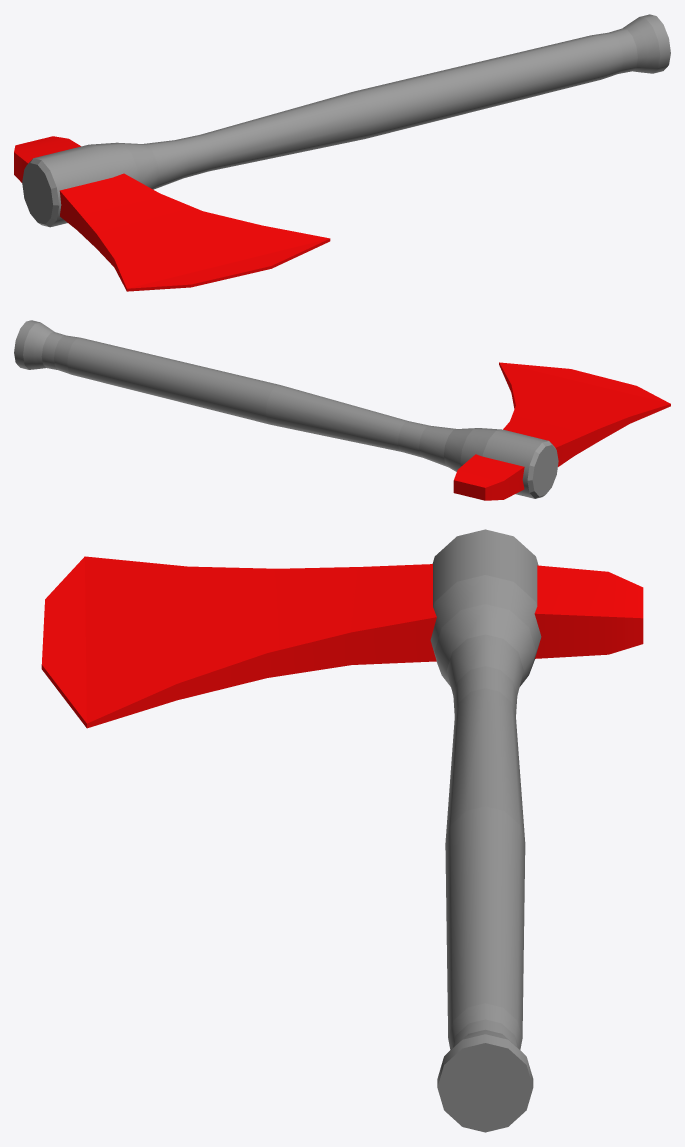
Rendered from SM_Hache.FBX.
3 renders of one model, top to bottom at view 1: azimuth 30°, elevation 25°; view 2: azimuth 150°, elevation 25°; view 3: azimuth 270°, elevation 25°, orthographic. The views are drawn at different scales.
Visible parts, largest first — view 1: Line013; view 2: Line013; view 3: Line013.
Boxes of the visible parts, x1,y1,x2,y2 form: Line013: (14,14,670,291); Line013: (14,320,670,500); Line013: (41,529,643,1132).
Bounding box in the file's own units: 123 × 11.76 × 58.72.
